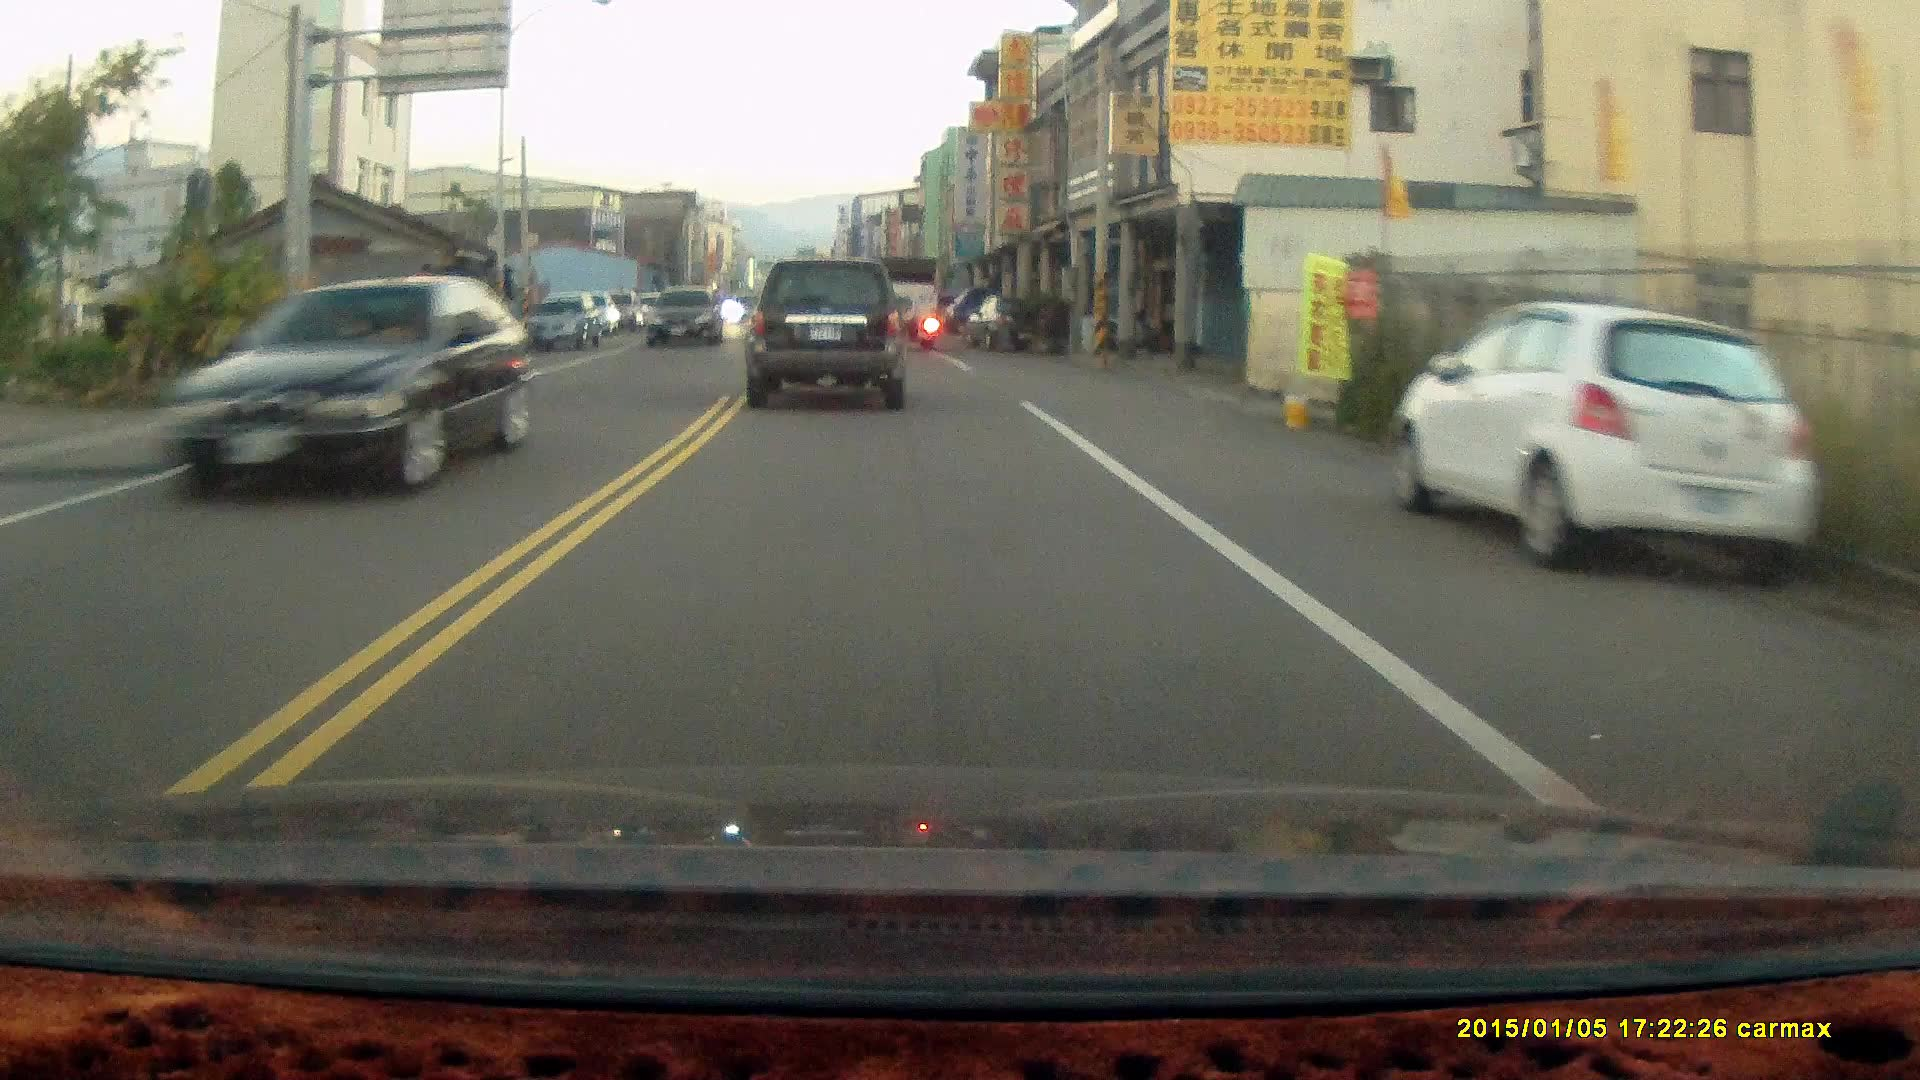vehicle: (1396, 305, 1822, 570), (149, 277, 529, 498), (744, 262, 918, 419), (861, 252, 944, 349), (645, 287, 727, 353), (518, 291, 600, 352)
